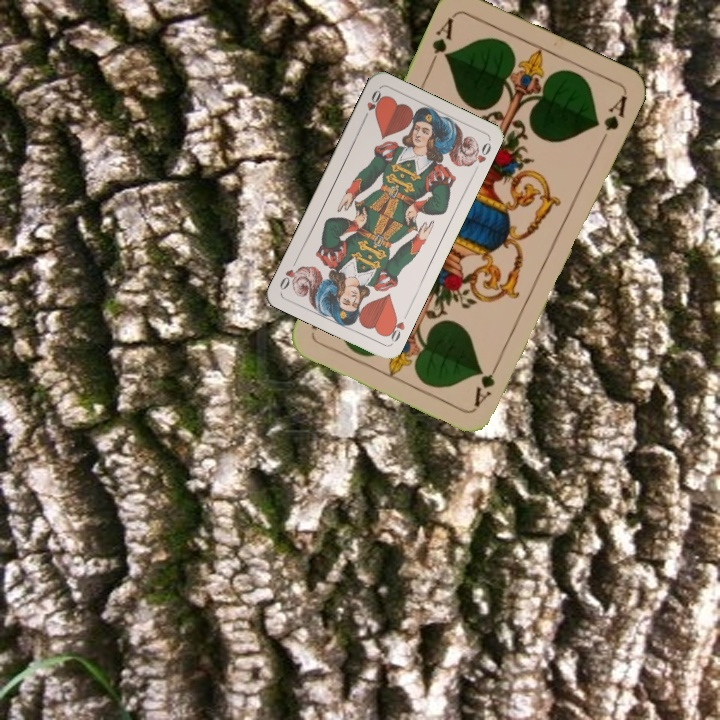GA: (470, 354, 504, 409), (426, 13, 457, 69)
HO: (382, 308, 411, 346), (359, 86, 385, 123)
